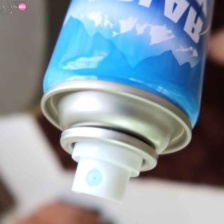aerosol_cans: (32, 0, 221, 208)
